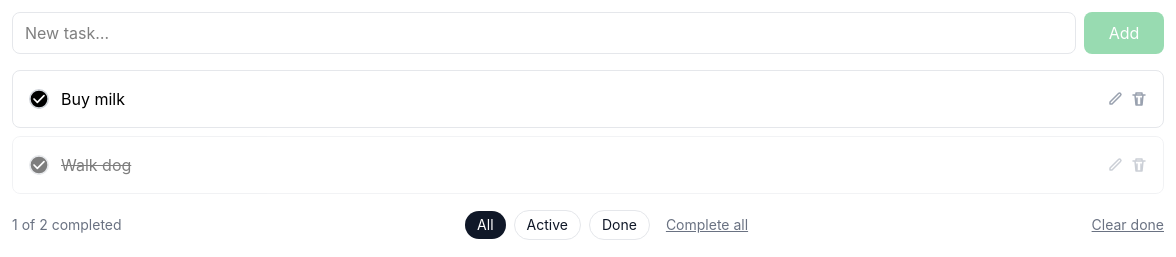
Test: TaskList › only completed tasks are shown when the Done filter is selected
Expected: the text "Buy milk" is shown, top-left (61, 89), bottom-right (125, 109)
Click the button "Done" at (619, 225), box top-left (589, 210), bottom-right (650, 240)
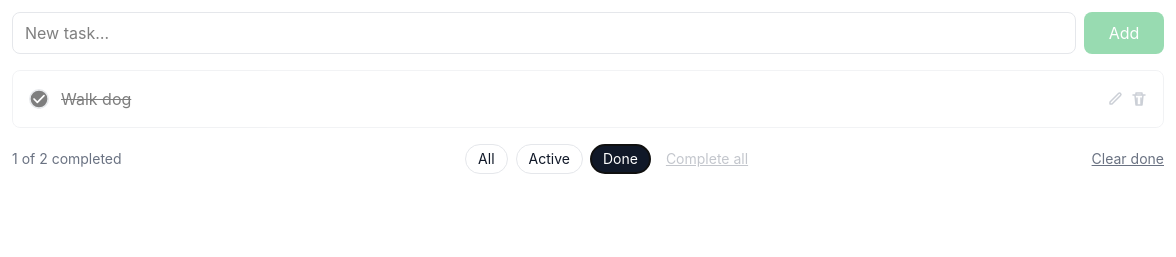
Expected: the text "Walk dog" is shown, top-left (61, 89), bottom-right (131, 109)
Now the text "Buy milk" is gone
